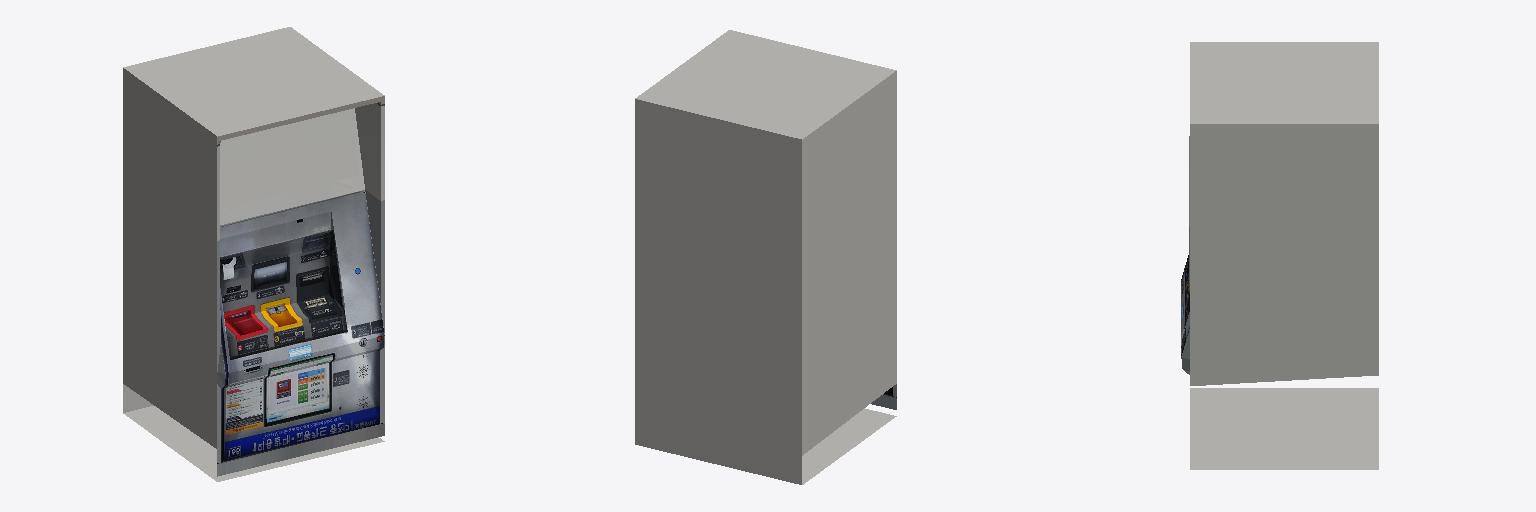
The picture shows the model from 3 angles: view 1: azimuth 30°, elevation 25°; view 2: azimuth 150°, elevation 25°; view 3: azimuth 270°, elevation 25°; orthographic projection.
Parts seen in each view (by area): view 1: obj1; view 2: obj1; view 3: obj1.
Part boxes in pixels (bbox=[...]): obj1: bbox=[123, 27, 384, 481]; obj1: bbox=[635, 30, 896, 484]; obj1: bbox=[1181, 42, 1378, 469].
Bounding box in the file's own units: 1.01 × 2 × 1.03.
1 materials, 1 textured.